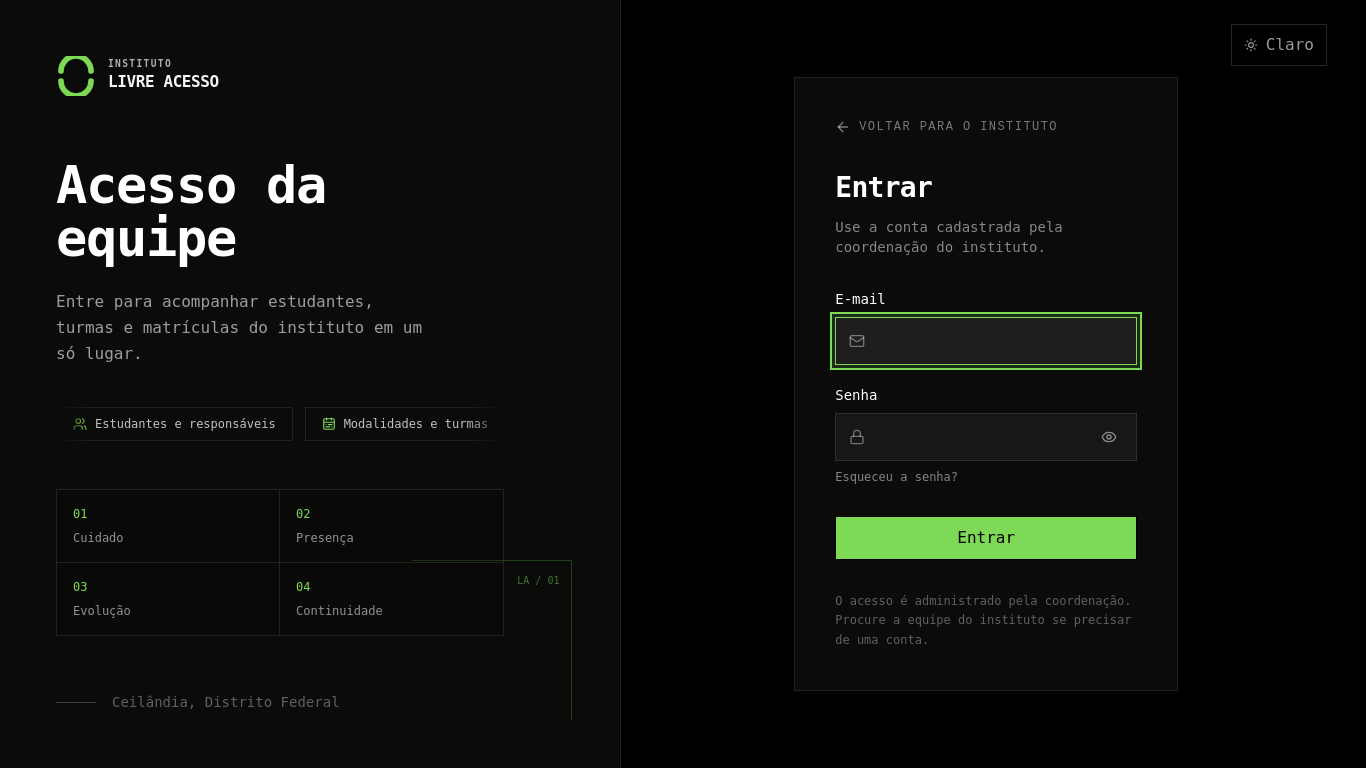
Test: LoginPage › impede envio vazio e mostra mensagem de validação
Click the button "Entrar" at (986, 538), box [835, 516, 1137, 560]
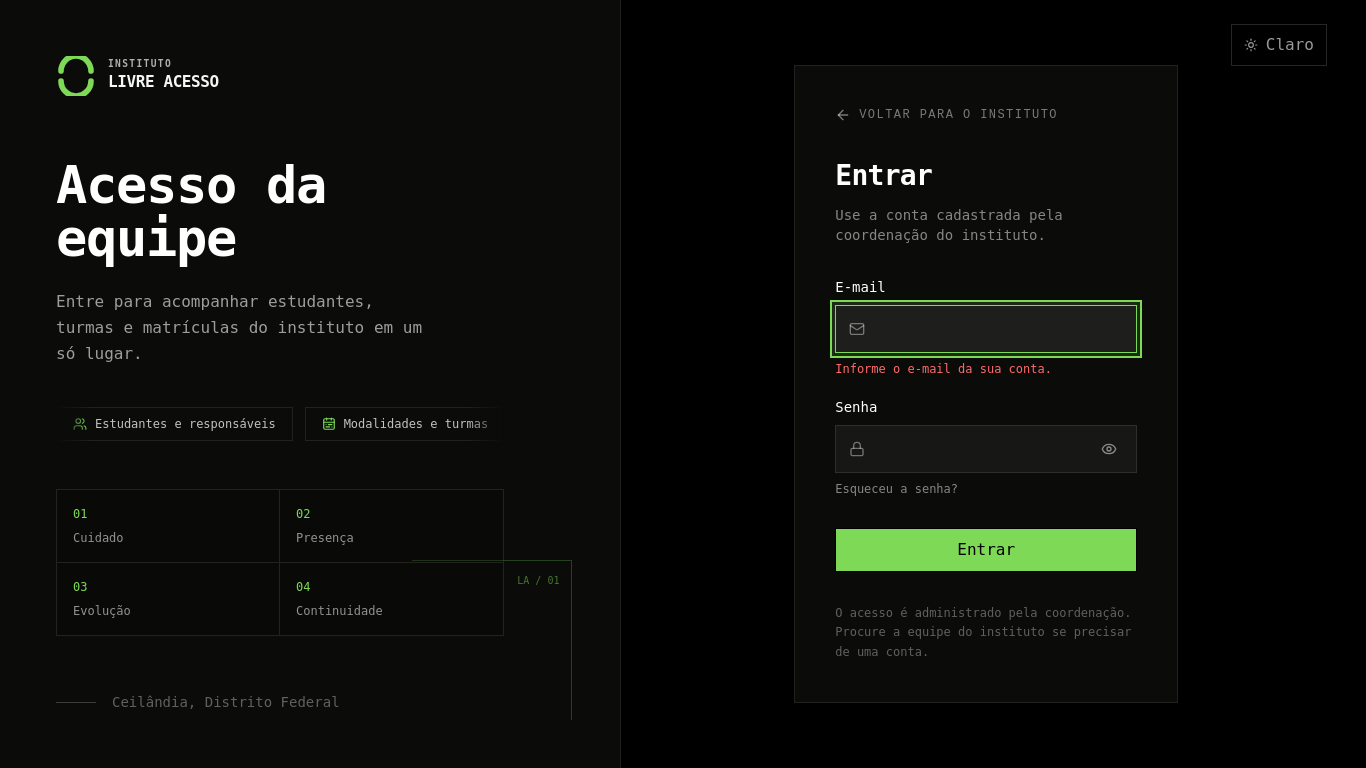
Expected: the text "Informe o e-mail da sua conta." is shown, [835, 362, 1052, 376]
